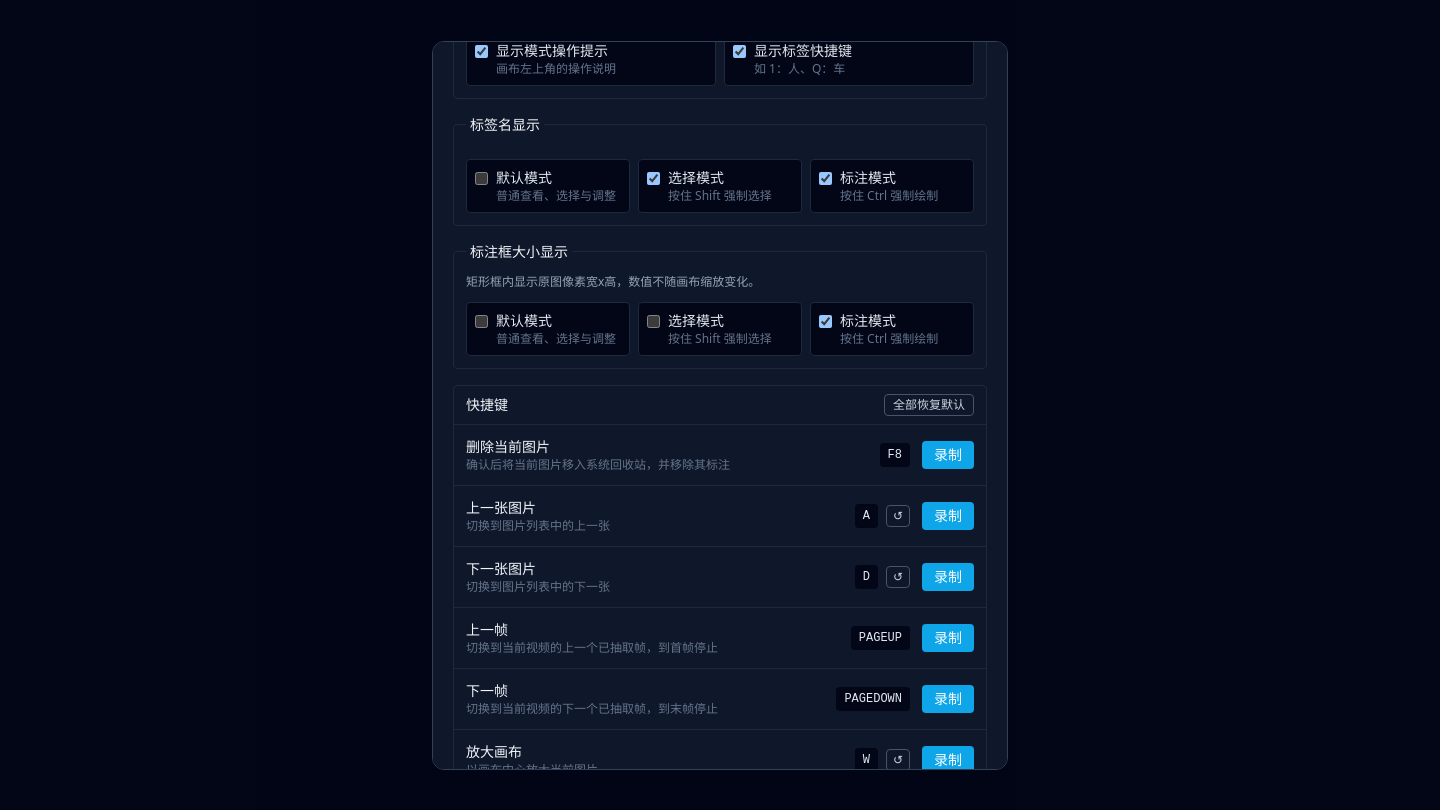
restores every changed shortcut in one state update and one persisted snapshot
(page scrolled)
What coordinates should you click on to do the following:
click the button "全部恢复默认"
I would click on:
 (929, 404)
Its box is left=884, top=394, right=974, bottom=416.
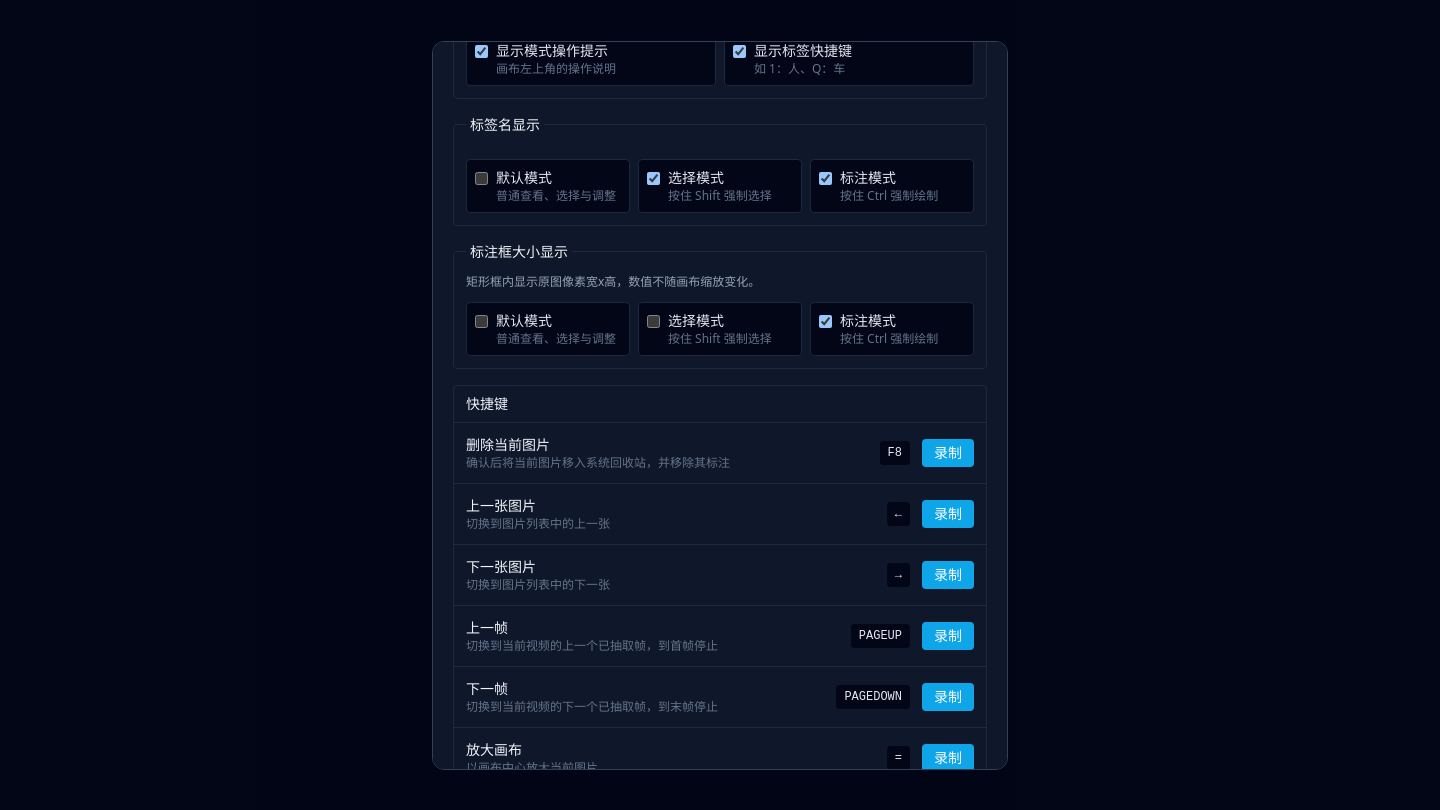
Result: the text "全部恢复默认" is gone
